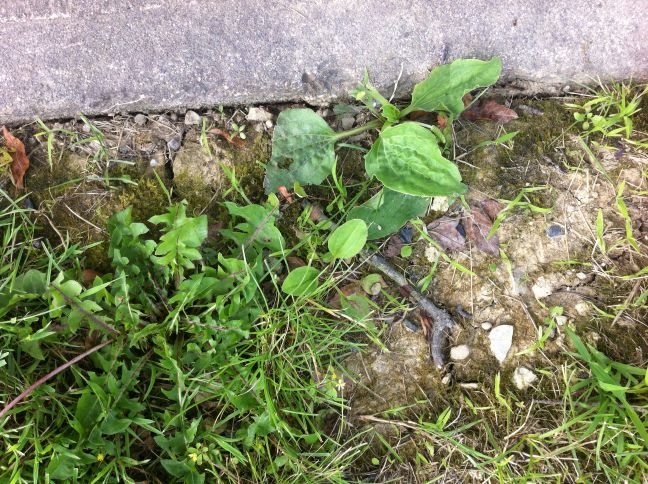weed1: (260, 51, 505, 204)
